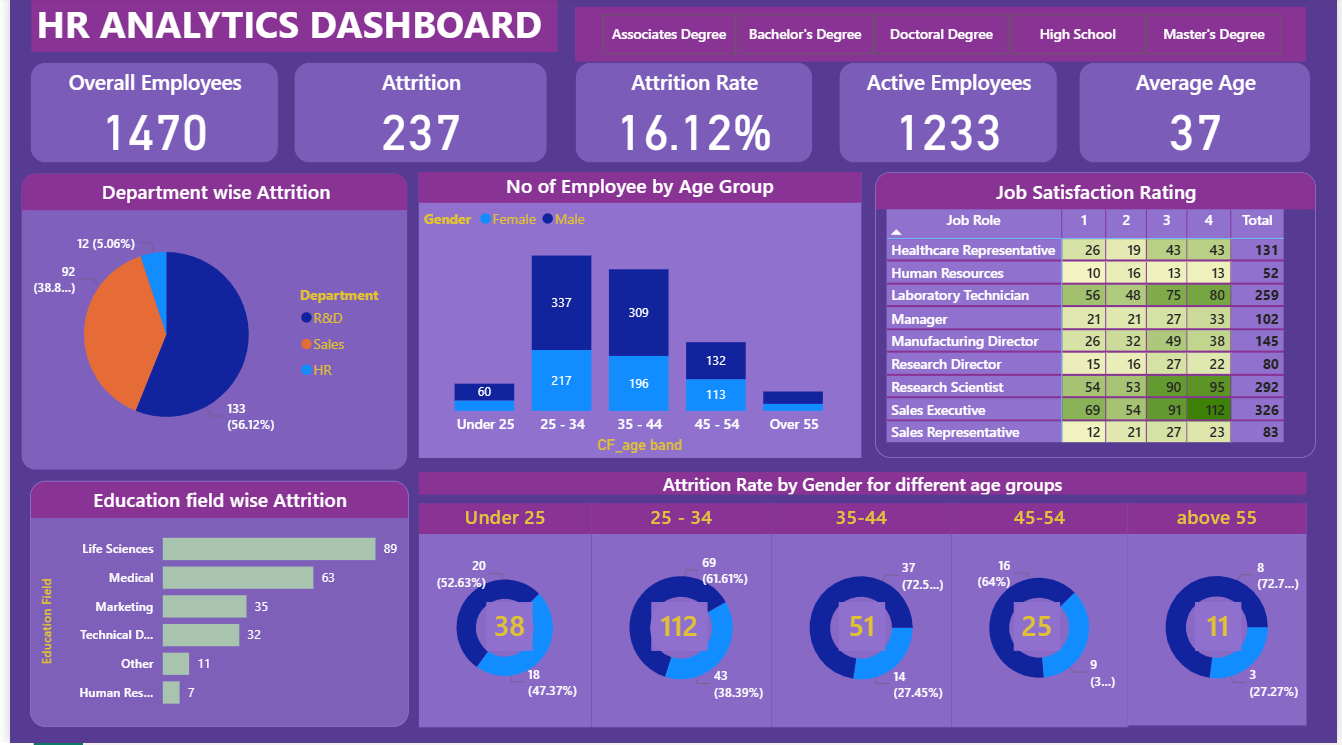

The dashboard page shown, as its layout file describes it:
{"tool":"powerbi","page":{"name":"Page 1","canvas":[1280,720],"ordinal":0},"visuals":[{"type":"card","title":"Overall Employees","fields":{"Values":["Sum(HR data.Employee Count)"]},"box":[19.3,62.7,240.1,97.7],"z":0},{"type":"card","title":"Attrition","fields":{"Values":["Sum(HR data.Attrition Count)"]},"box":[273.9,62.7,244.9,97.7],"z":1000},{"type":"card","title":"Attrition Rate","fields":{"Values":["HR data.Attrition Rate"]},"box":[545.3,62.7,229.2,97.7],"z":2000},{"type":"card","title":"Active Employees","fields":{"Values":["HR data.Active Employees"]},"box":[799.9,62.7,211.1,97.7],"z":3000},{"type":"card","title":"Average Age ","fields":{"Values":["Avg(HR data.Age)"]},"box":[1031.5,62.7,224.4,97.7],"z":4000},{"type":"pieChart","title":"Department wise Attrition","fields":{"Category":["HR data.Department"],"Y":["Sum(HR data.Attrition Count)"]},"box":[10,169.2,375.5,288.7],"z":5000},{"type":"columnChart","title":"No of Employee by Age Group","fields":{"Category":["HR data.CF_age band"],"Series":["HR data.Gender"],"Y":["Sum(HR data.Employee Count)"]},"box":[394.5,168.9,427.1,276.3],"z":6000},{"type":"pivotTable","title":"Job Satisfaction Rating","fields":{"Columns":["HR data.Job Satisfaction"],"Rows":["HR data.Job Role"],"Values":["Sum(HR data.Employee Count)"]},"box":[834.9,168.9,425.9,276.3],"z":7000},{"type":"barChart","title":"Education field  wise Attrition","fields":{"Category":["HR data.Education Field"],"Y":["Sum(HR data.Attrition Count)"]},"box":[19.3,466.9,365.6,237.7],"z":8000},{"type":"donutChart","title":"Under 25","fields":{"Category":["HR data.Gender"],"Series":["HR data.CF_age band"],"Y":["Sum(HR data.Attrition Count)"]},"box":[394.5,488.6,166.5,216],"z":9000},{"type":"textbox","title":"Attrition Rate by Gender for different age groups","box":[394.5,458.4,856.6,21.7],"z":10000},{"type":"donutChart","title":"35-44","fields":{"Category":["HR data.Gender"],"Series":["HR data.CF_age band"],"Y":["Sum(HR data.Attrition Count)"]},"box":[734.7,488.6,173.7,216],"z":11000},{"type":"donutChart","title":"45-54","fields":{"Category":["HR data.Gender"],"Series":["HR data.CF_age band"],"Y":["Sum(HR data.Attrition Count)"]},"box":[908.4,488.6,170.1,216],"z":12000},{"type":"donutChart","title":"above 55","fields":{"Category":["HR data.Gender"],"Series":["HR data.CF_age band"],"Y":["Sum(HR data.Attrition Count)"]},"box":[1078.6,488.6,172.5,214.7],"z":13000},{"type":"donutChart","title":" 25 - 34","fields":{"Category":["HR data.Gender"],"Series":["HR data.CF_age band"],"Y":["Sum(HR data.Attrition Count)"]},"box":[561,488.6,173.7,216],"z":14000},{"type":"card","fields":{"Values":["Sum(HR data.Attrition Count)"]},"box":[459.7,583.9,44.6,47.1],"z":15000},{"type":"card","fields":{"Values":["Sum(HR data.Attrition Count)"]},"box":[618.9,583.9,54.3,47.1],"z":16000},{"type":"card","fields":{"Values":["Sum(HR data.Attrition Count)"]},"box":[799.9,583.9,44.6,47.1],"z":17000},{"type":"card","fields":{"Values":["Sum(HR data.Attrition Count)"]},"box":[968.8,583.9,44.6,47.1],"z":18000},{"type":"card","fields":{"Values":["Sum(HR data.Attrition Count)"]},"box":[1143.7,583.9,44.6,47.1],"z":19000},{"type":"textbox","title":"HR ANALYTICS DASHBOARD","box":[19.9,0,507.7,52.6],"z":20000},{"type":"slicer","fields":{"Values":["HR data.Education"]},"box":[544.7,10,705.4,52.6],"z":21000}]}

Visuals, with their boxes in screenshot pixels (x1, y1, x2, y2), scaled from the page's 1280x720 canvas onto the 1342x745 screenshot:
"Overall Employees" card: {"left": 20, "top": 65, "right": 272, "bottom": 166}
"Attrition" card: {"left": 287, "top": 65, "right": 544, "bottom": 166}
"Attrition Rate" card: {"left": 572, "top": 65, "right": 812, "bottom": 166}
"Active Employees" card: {"left": 839, "top": 65, "right": 1060, "bottom": 166}
"Average Age " card: {"left": 1081, "top": 65, "right": 1317, "bottom": 166}
"Department wise Attrition" pieChart: {"left": 10, "top": 175, "right": 404, "bottom": 474}
"No of Employee by Age Group" columnChart: {"left": 414, "top": 175, "right": 861, "bottom": 461}
"Job Satisfaction Rating" pivotTable: {"left": 875, "top": 175, "right": 1322, "bottom": 461}
"Education field  wise Attrition" barChart: {"left": 20, "top": 483, "right": 404, "bottom": 729}
"Under 25" donutChart: {"left": 414, "top": 506, "right": 588, "bottom": 729}
"Attrition Rate by Gender for different age groups" textbox: {"left": 414, "top": 474, "right": 1312, "bottom": 497}
"35-44" donutChart: {"left": 770, "top": 506, "right": 952, "bottom": 729}
"45-54" donutChart: {"left": 952, "top": 506, "right": 1131, "bottom": 729}
"above 55" donutChart: {"left": 1131, "top": 506, "right": 1312, "bottom": 728}
" 25 - 34" donutChart: {"left": 588, "top": 506, "right": 770, "bottom": 729}
card - Sum(HR data.Attrition Count): {"left": 482, "top": 604, "right": 529, "bottom": 653}
card - Sum(HR data.Attrition Count): {"left": 649, "top": 604, "right": 706, "bottom": 653}
card - Sum(HR data.Attrition Count): {"left": 839, "top": 604, "right": 885, "bottom": 653}
card - Sum(HR data.Attrition Count): {"left": 1016, "top": 604, "right": 1062, "bottom": 653}
card - Sum(HR data.Attrition Count): {"left": 1199, "top": 604, "right": 1246, "bottom": 653}
"HR ANALYTICS DASHBOARD" textbox: {"left": 21, "top": 0, "right": 553, "bottom": 54}
slicer - HR data.Education: {"left": 571, "top": 10, "right": 1311, "bottom": 65}
